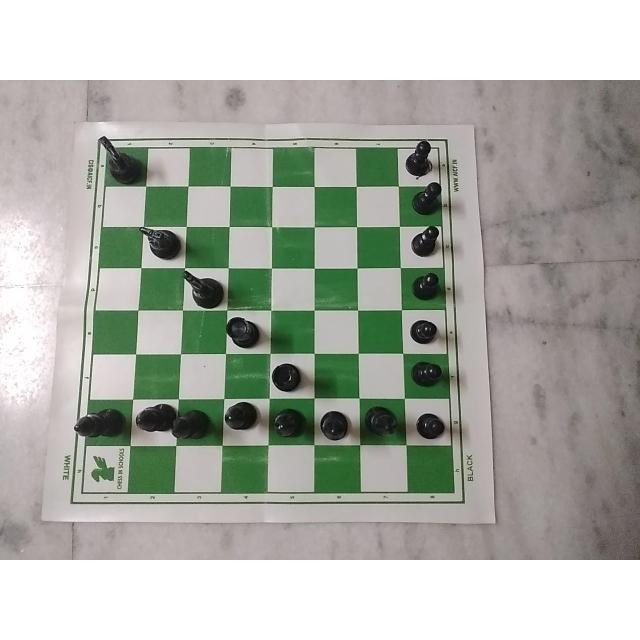black-bishop: (67, 403, 129, 449), (130, 398, 174, 446), (361, 404, 407, 444), (312, 405, 357, 443), (169, 410, 213, 446), (270, 404, 308, 444), (219, 402, 263, 436)
black-knight: (91, 131, 141, 180), (178, 266, 228, 311), (139, 222, 178, 257)
black-pawn: (405, 358, 452, 396), (408, 403, 452, 443), (405, 315, 449, 351), (404, 138, 440, 182), (410, 178, 447, 218), (402, 227, 448, 258), (410, 273, 450, 305)
black-rook: (268, 357, 312, 397), (224, 311, 260, 351)
